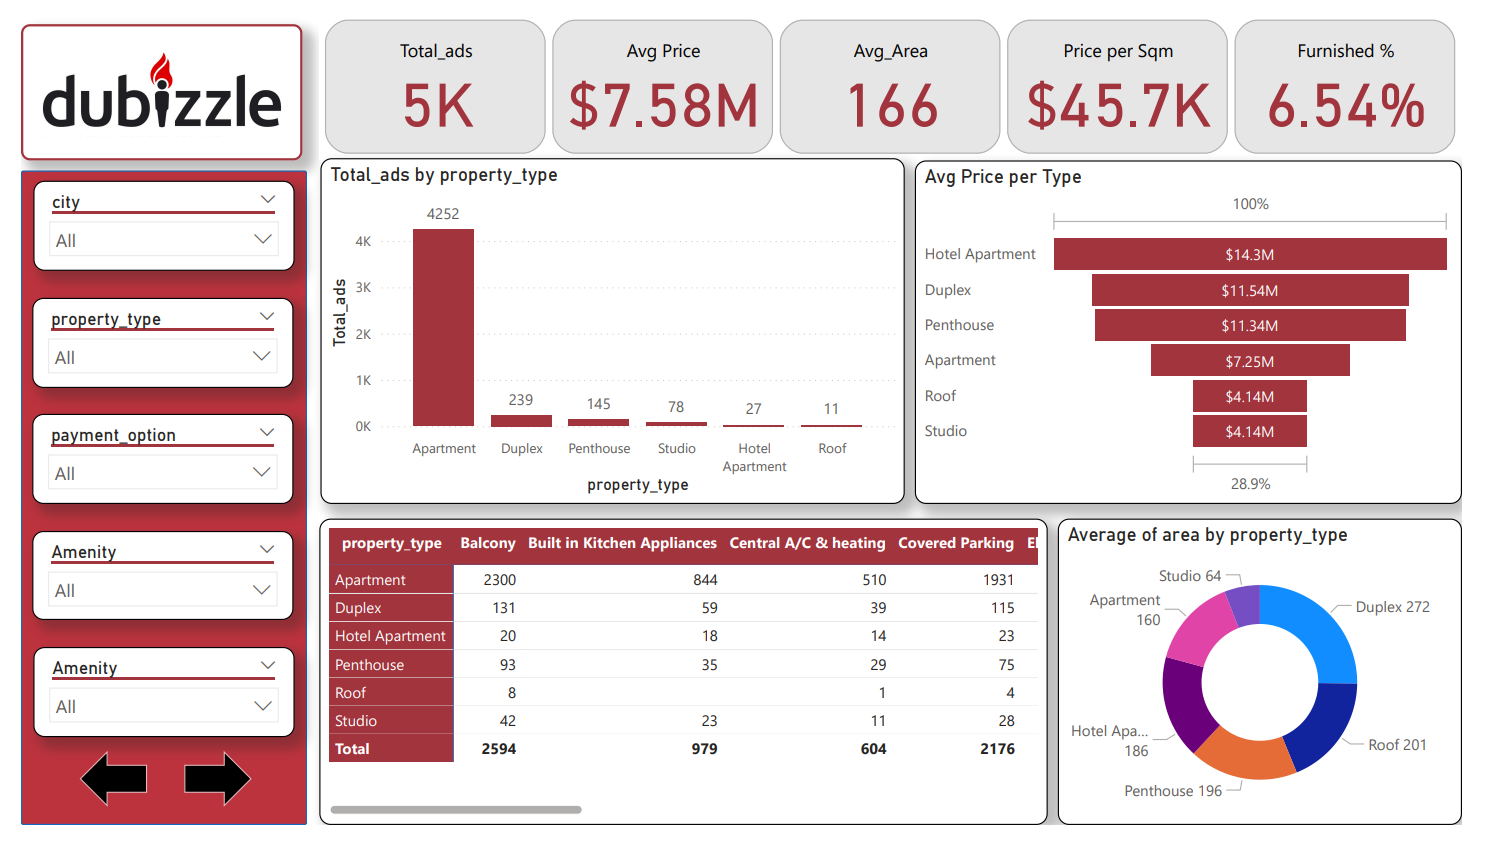

This screenshot's page, from the dashboard's own definition file:
{"tool":"powerbi","page":{"name":"Property Type","canvas":[1280,720],"ordinal":2},"visuals":[{"type":"image","box":[0,8.6,250.3,121.5],"z":0},{"type":"cardVisual","fields":{"Data":["Dax.Total_ads","Dax.Avg Price","Dax.Avg_Area","Dax.Price per Sqm","Dax.Furnished %"]},"box":[265,0,1014.7,128.8],"z":1000},{"type":"shape","box":[0,138.7,254,581.6],"z":2000},{"type":"columnChart","fields":{"Category":["Dubizzle_properties.property_type"],"Y":["Dax.Total_ads"]},"box":[265.6,127.7,519.5,307.7],"z":3000},{"type":"funnel","title":"Avg Price per Type","fields":{"Category":["Dubizzle_properties.property_type"],"Y":["Avg(Dubizzle_properties.price)"]},"box":[793.8,130,486.2,305],"z":4000},{"type":"slicer","fields":{"Values":["Dubizzle_properties.city"]},"box":[11,148.5,231.9,79.8],"z":5000},{"type":"slicer","fields":{"Values":["Dubizzle_properties.property_type"]},"box":[9.8,251.8,231.9,79.8],"z":6000},{"type":"slicer","fields":{"Values":["Dubizzle_properties.payment_option"]},"box":[10.1,355.2,231.9,79.8],"z":7000},{"type":"slicer","fields":{"Values":["AmenitiesTable.Amenity"]},"box":[10.4,458.6,231.9,79.8],"z":8000},{"type":"slicer","fields":{"Values":["AmenitiesTable.Amenity"]},"box":[10.7,562,231.9,79.8],"z":9000},{"type":"shape","box":[144.8,654,60.1,50.3],"z":10000},{"type":"shape","box":[51.5,654,60.1,50.3],"z":11000},{"type":"pivotTable","fields":{"Rows":["Dubizzle_properties.property_type"],"Columns":["AmenitiesTable.Amenity"],"Values":["CountNonNull(AmenitiesTable.Amenity)"]},"box":[265,447.9,646.6,272.4],"z":12000},{"type":"donutChart","fields":{"Category":["Dubizzle_properties.property_type"],"Y":["Avg(Dubizzle_properties.area)"]},"box":[921.5,447.6,358.3,272.4],"z":13000}]}

Visuals, with their boxes in screenshot pixels (x1, y1, x2, y2), scaled from the page's 1280x720 canvas onto the 1486x842 screenshot:
image: bbox(0, 10, 291, 152)
cardVisual - Dax.Total_ads x Dax.Avg Price: bbox(308, 0, 1485, 151)
shape: bbox(0, 162, 295, 841)
columnChart - Dubizzle_properties.property_type x Dax.Total_ads: bbox(308, 149, 911, 509)
"Avg Price per Type" funnel: bbox(922, 152, 1485, 509)
slicer - Dubizzle_properties.city: bbox(13, 174, 282, 267)
slicer - Dubizzle_properties.property_type: bbox(11, 294, 281, 388)
slicer - Dubizzle_properties.payment_option: bbox(12, 415, 281, 509)
slicer - AmenitiesTable.Amenity: bbox(12, 536, 281, 630)
slicer - AmenitiesTable.Amenity: bbox(12, 657, 282, 751)
shape: bbox(168, 765, 238, 824)
shape: bbox(60, 765, 130, 824)
pivotTable - Dubizzle_properties.property_type x AmenitiesTable.Amenity: bbox(308, 524, 1058, 841)
donutChart - Dubizzle_properties.property_type x Avg(Dubizzle_properties.area): bbox(1070, 523, 1485, 841)
